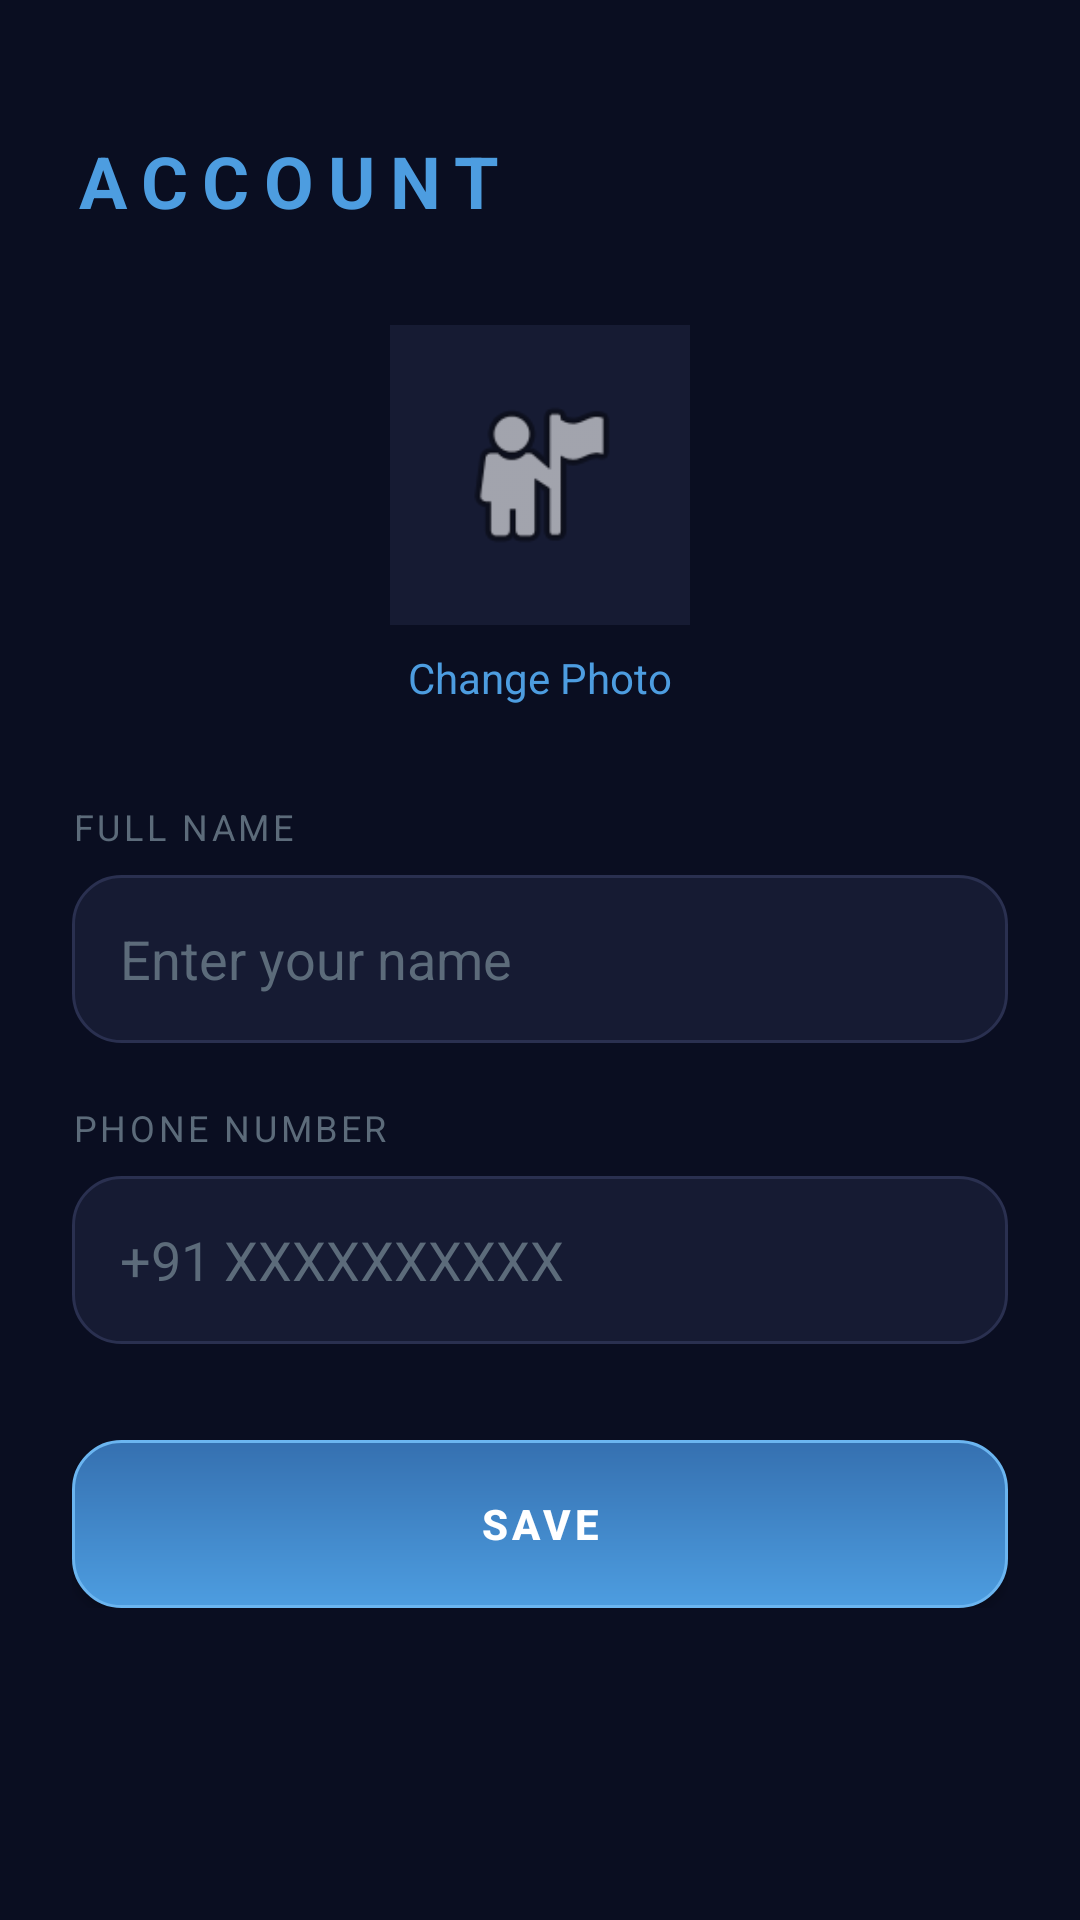

Where icons sit on this 1080px x 1920px app screen, as [x1, y1, x2, y2]:
myplaces: [479, 413, 604, 537]
